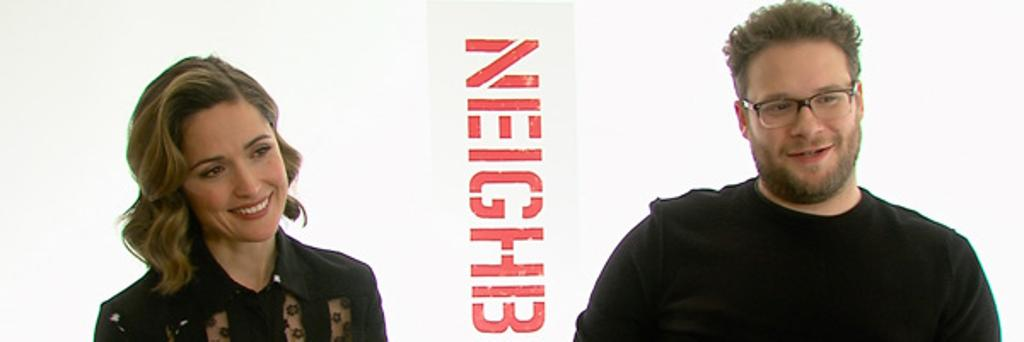face: (746, 38, 854, 200), (186, 94, 284, 244)
